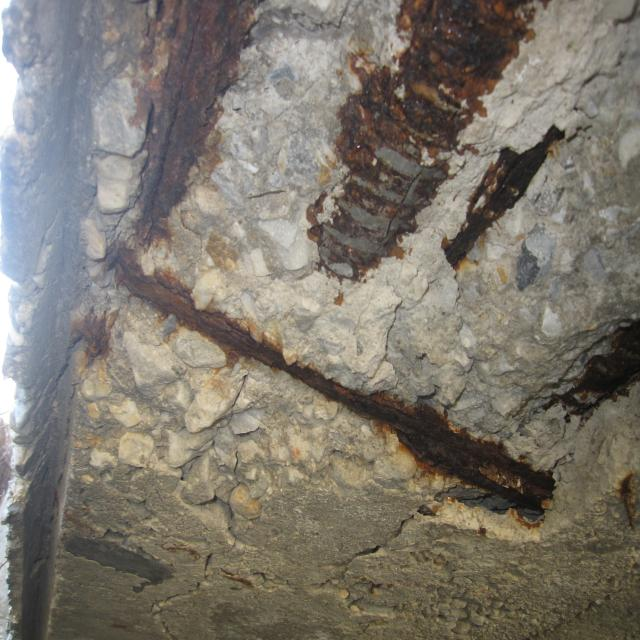corrosion: (60, 0, 640, 541)
